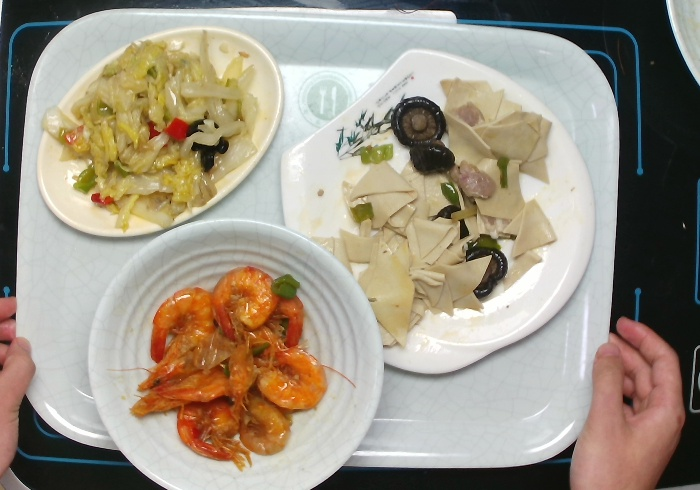JYsf-Mian_Pan: (278, 58, 594, 375)
JYsf-Tuo_Yuan_Wan: (30, 20, 287, 241)
JYsf-Xiao_Tang_Wan: (88, 216, 388, 490)
